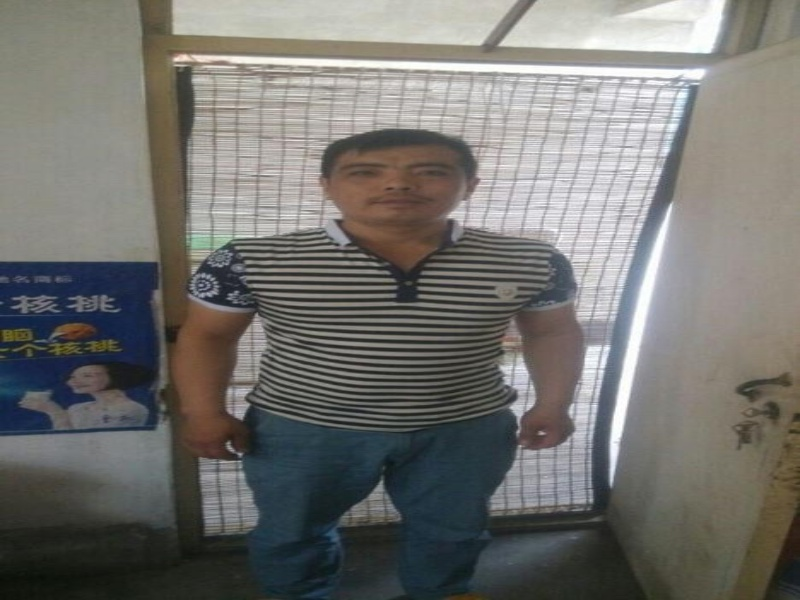short_sleeved_shirt: (174, 217, 585, 436)
trousers: (229, 390, 528, 599)
